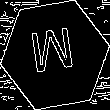M_S: (30, 27, 80, 83)
